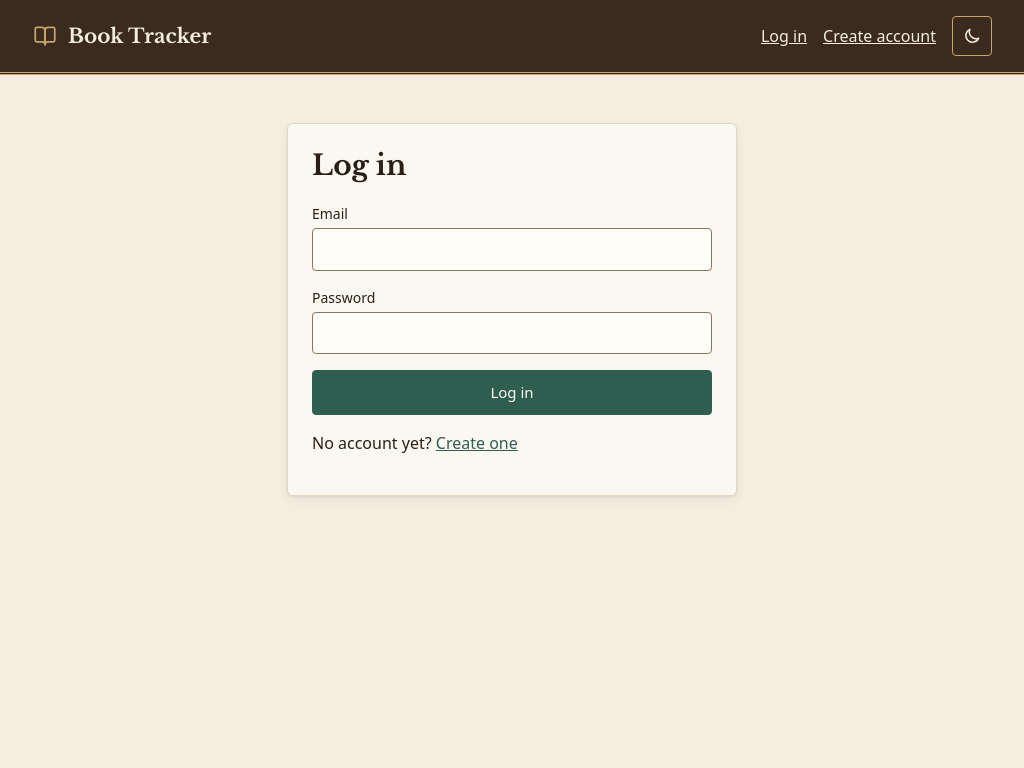
login › explains the rate limit
Type "ann@example.com" into the field labelled "Email" at point(512, 249), box [312, 228, 712, 270]
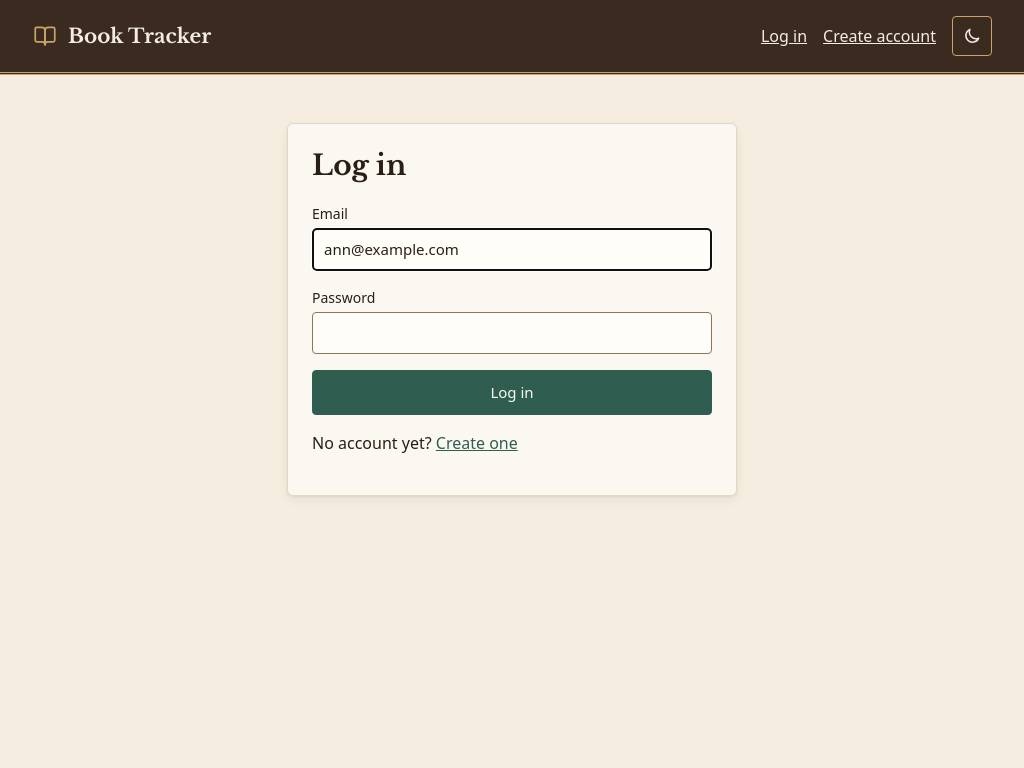
Type "whatever1" into the password field labelled "Password" at point(512, 333), box [312, 312, 712, 354]
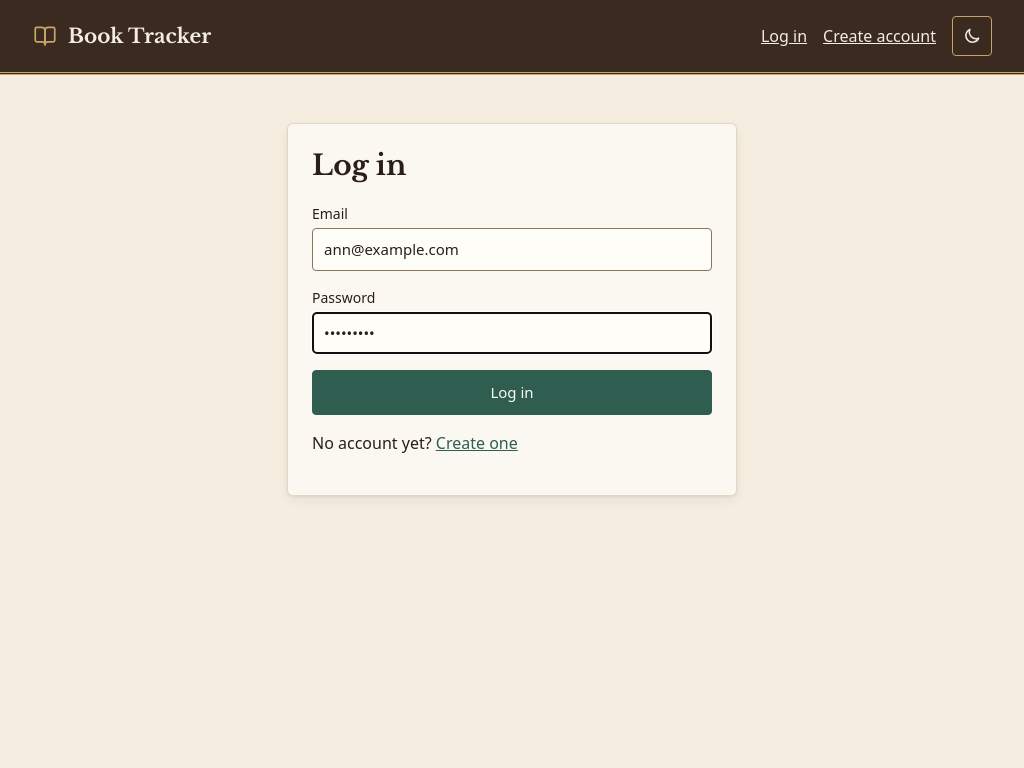
Click the button "Log in" at point(512, 392), box [312, 370, 712, 414]
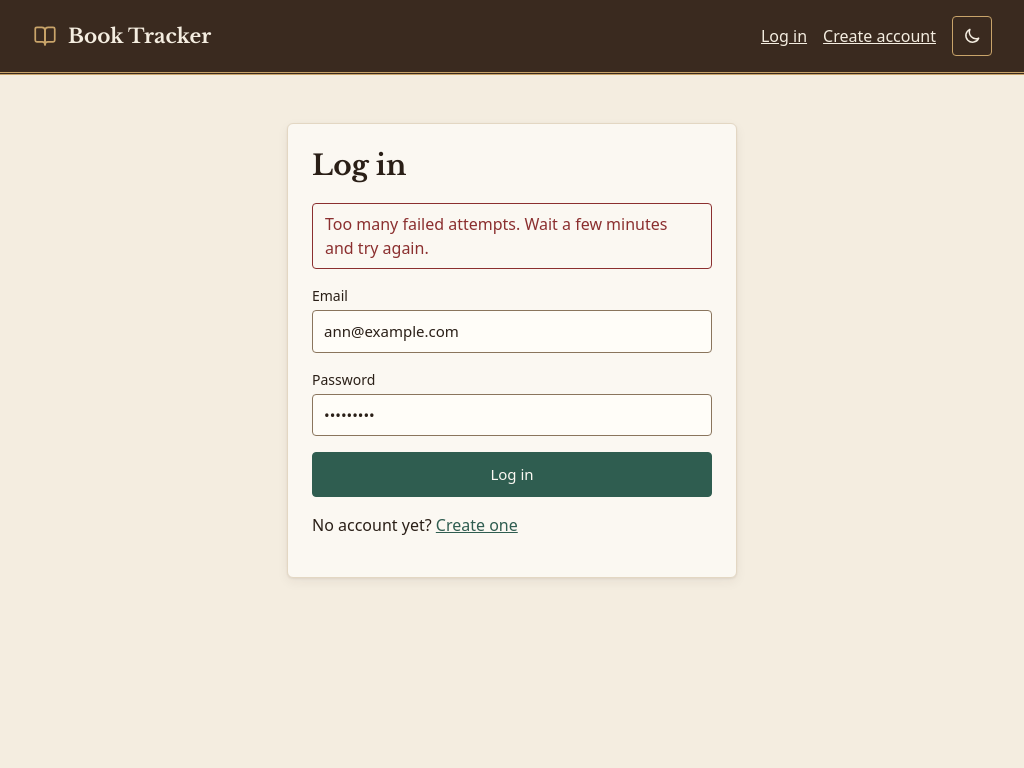
Now the message reads "Too many failed attempts. Wait a few minutes and try again.", box [325, 213, 668, 259]
